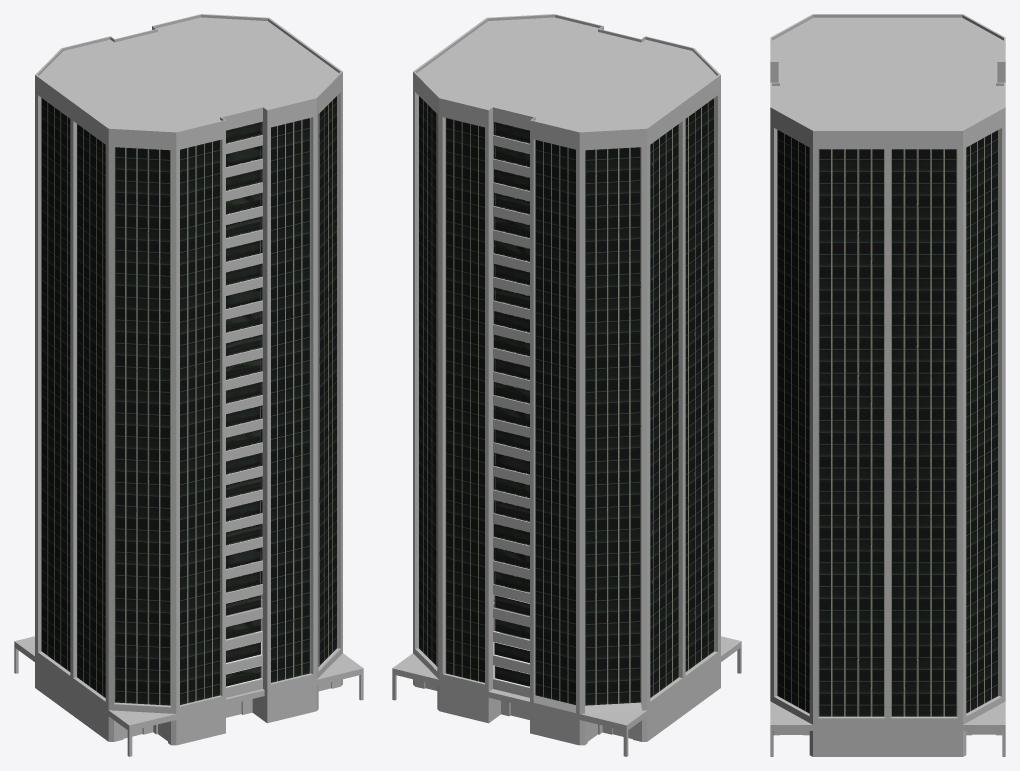
3 renders of one model, left to right at view 1: azimuth 30°, elevation 25°; view 2: azimuth 150°, elevation 25°; view 3: azimuth 270°, elevation 25°, orthographic. The views are drawn at different scales.
Visible parts, largest first — view 1: EC-029; view 2: EC-029; view 3: EC-029.
Part boxes in pixels (<box>): EC-029: <box>14,14,363,756</box>; EC-029: <box>392,14,741,756</box>; EC-029: <box>770,14,1005,756</box>.
Size of what is drawn, in the model's own units: 31.15 by 77.85 by 26.49.
